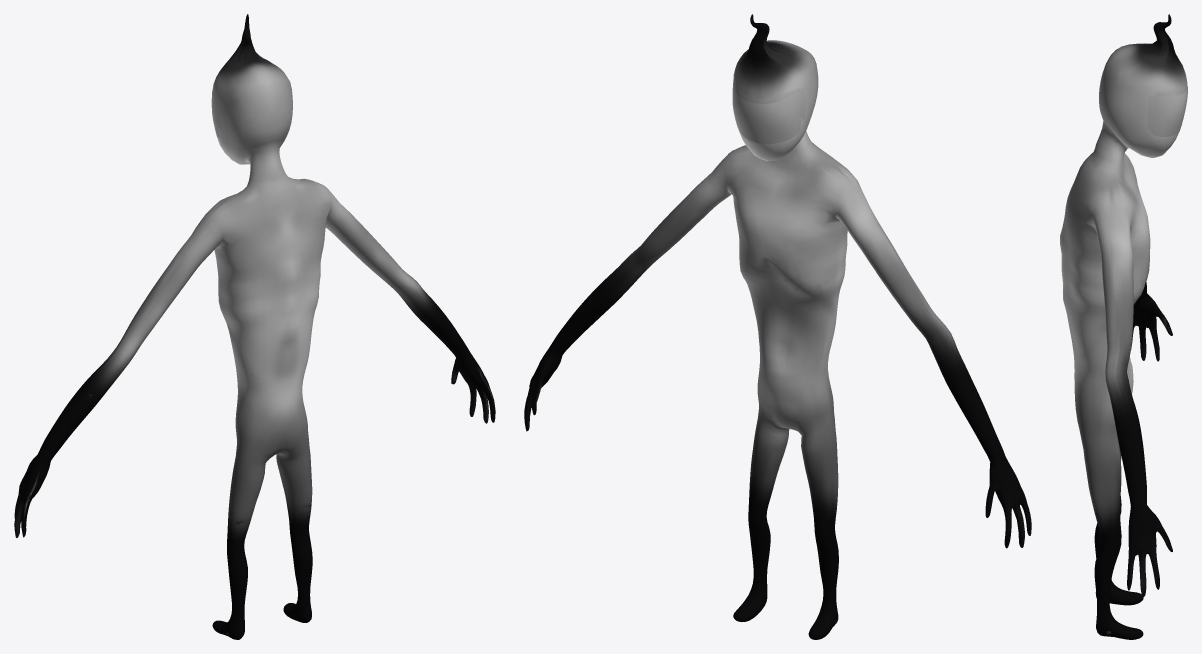
File: mimic_text_eyes.fbx
3 views of the same model, side by side, from view 1: azimuth 30°, elevation 25°; view 2: azimuth 150°, elevation 25°; view 3: azimuth 270°, elevation 25° (orthographic). The views are drawn at different scales.
Parts seen in each view (by area): view 1: Body; view 2: Body, Face; view 3: Body, Face.
Boxes of the visible parts, x1,y1,x2,y2 form: Body: (14, 14, 495, 639); Body: (524, 14, 1031, 639); Face: (732, 83, 805, 143); Body: (1060, 14, 1187, 639); Face: (1147, 87, 1187, 136).
Size of the model in its own units: 1185 by 1419 by 269.
